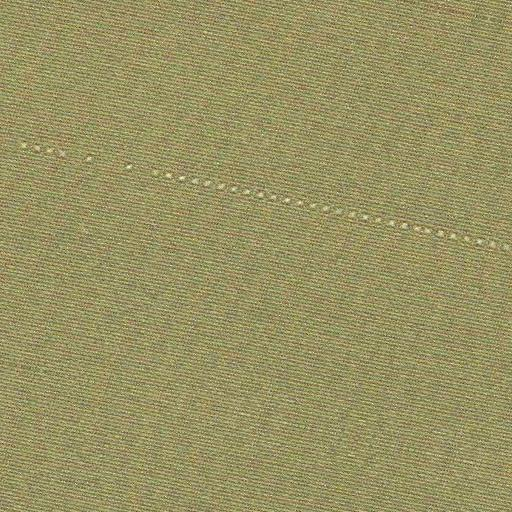slub: (13, 126, 512, 267)
